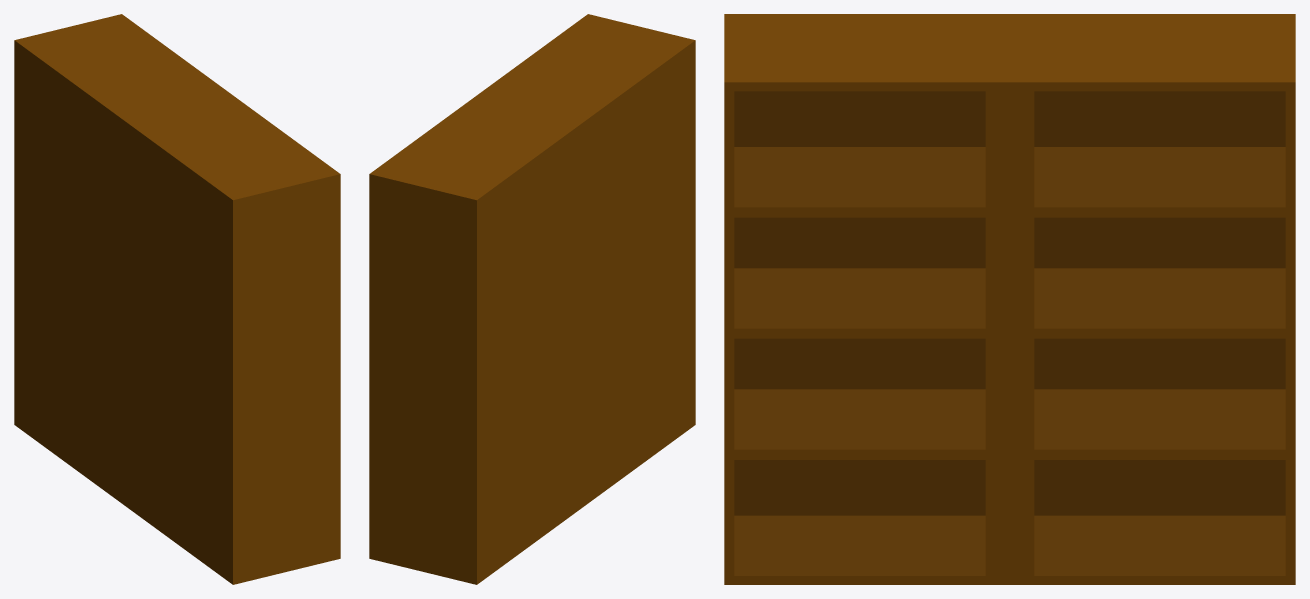
Rendered from Hea_Player_Room_Shelf_2.fbx.
3 renders of one model, left to right at view 1: azimuth 30°, elevation 25°; view 2: azimuth 150°, elevation 25°; view 3: azimuth 270°, elevation 25°, orthographic. The views are drawn at different scales.
Parts seen in each view (by area): view 1: Bookshelf_1; view 2: Bookshelf_1; view 3: Bookshelf_1.
Boxes of the visible parts, x1,y1,x2,y2 form: Bookshelf_1: (14, 14, 340, 584); Bookshelf_1: (369, 14, 695, 584); Bookshelf_1: (724, 14, 1295, 584).
Bounding box in the file's own units: 56.75 × 194 × 200.
